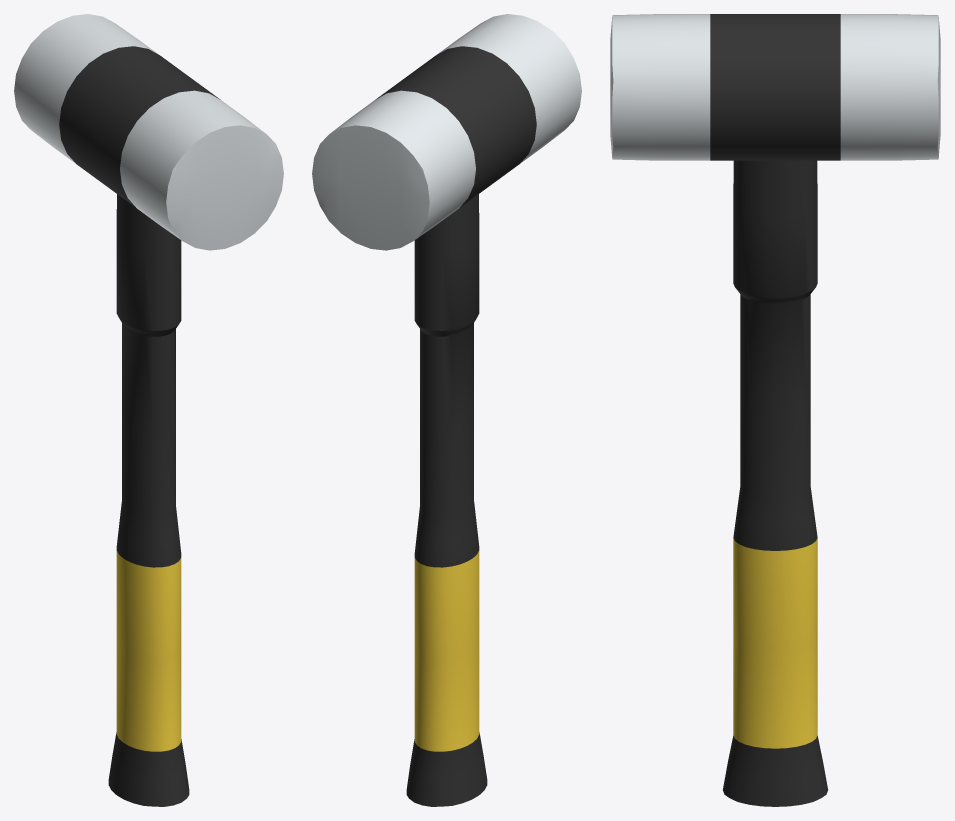
The model's file is Hammer.fbx.
The picture shows the model from 3 angles, left to right: view 1: azimuth 30°, elevation 25°; view 2: azimuth 150°, elevation 25°; view 3: azimuth 270°, elevation 25°; orthographic projection. The views are drawn at different scales.
Visible parts, largest first — view 1: Handle; view 2: Handle; view 3: Handle.
Part boxes in pixels (bbox=[...]): Handle: bbox=[14, 14, 283, 806]; Handle: bbox=[312, 14, 581, 806]; Handle: bbox=[610, 14, 940, 806].
Bounding box in the file's own units: 6.69 × 38.59 × 15.
